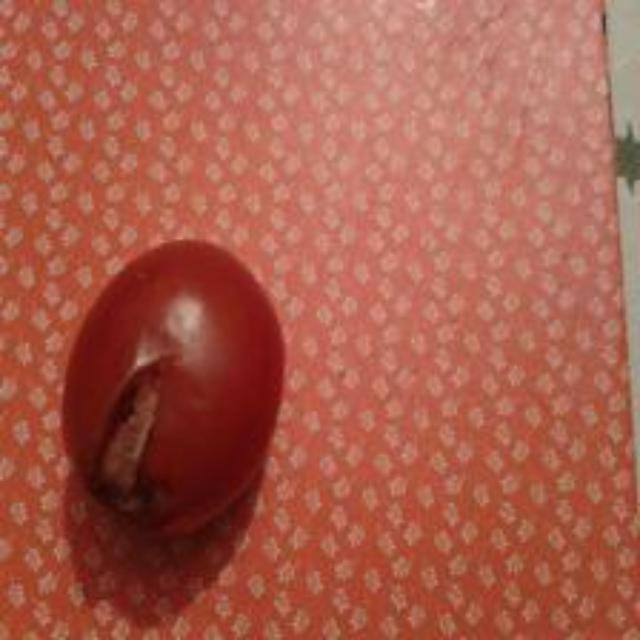defect: (59, 237, 296, 538)
